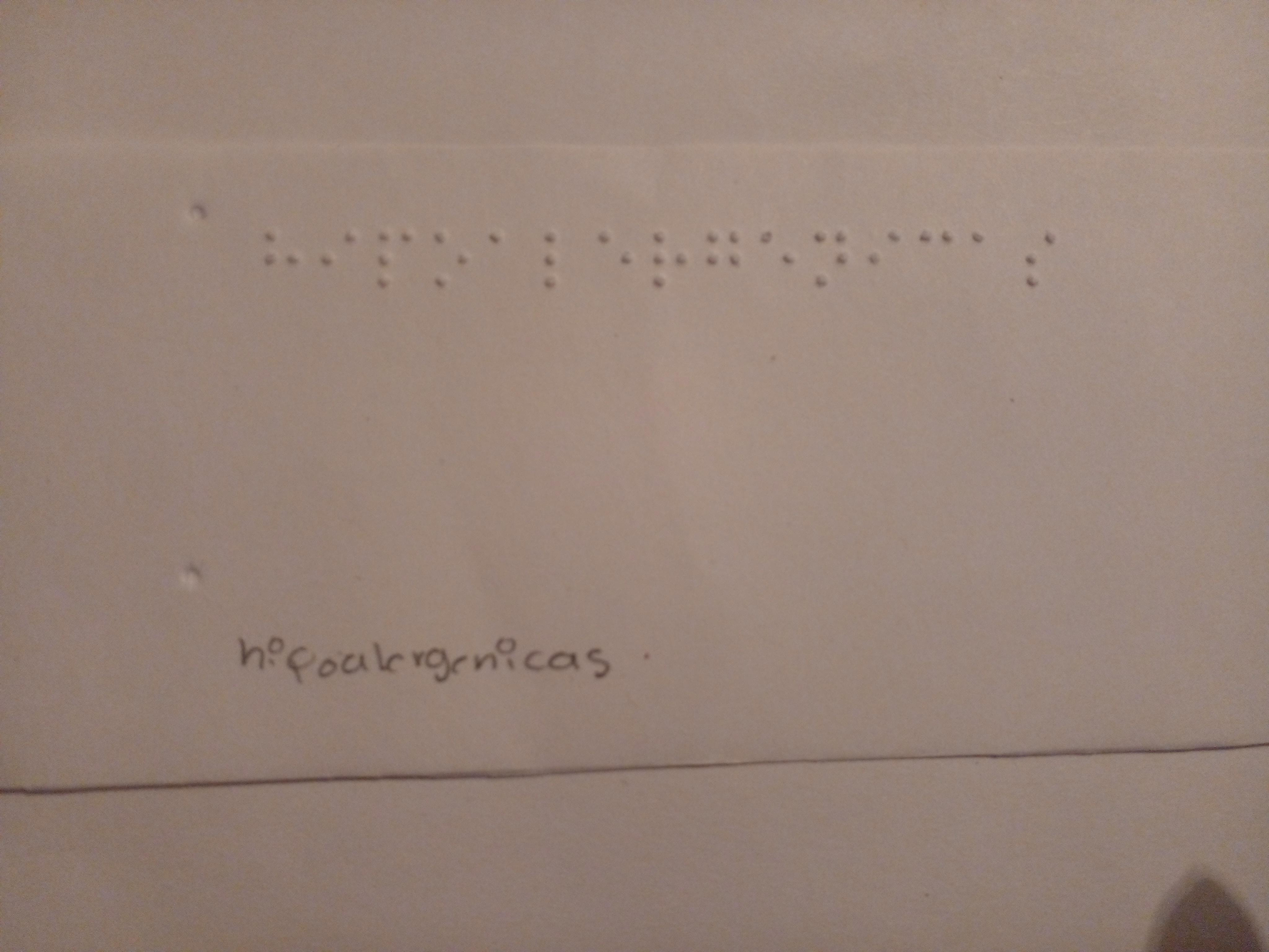a: (964, 212, 1007, 313), (480, 214, 516, 299)
c: (911, 203, 959, 318)
e: (584, 203, 644, 310), (757, 209, 802, 322)
g: (692, 206, 754, 321)
h: (254, 209, 308, 302)
i: (860, 209, 908, 307), (316, 208, 362, 302)
l: (520, 200, 576, 322)
n: (806, 206, 855, 319)
o: (426, 212, 474, 318)
p: (362, 186, 428, 322)
r: (641, 195, 689, 324)
s: (1010, 209, 1067, 316)
